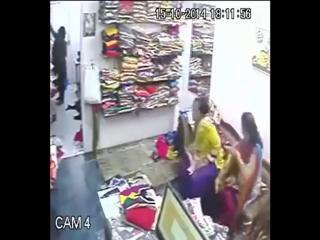Normal: (176, 97, 224, 199)
